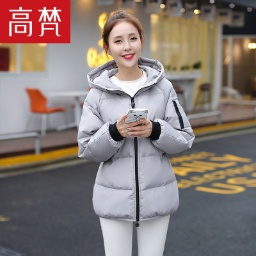face: (99, 7, 150, 74)
